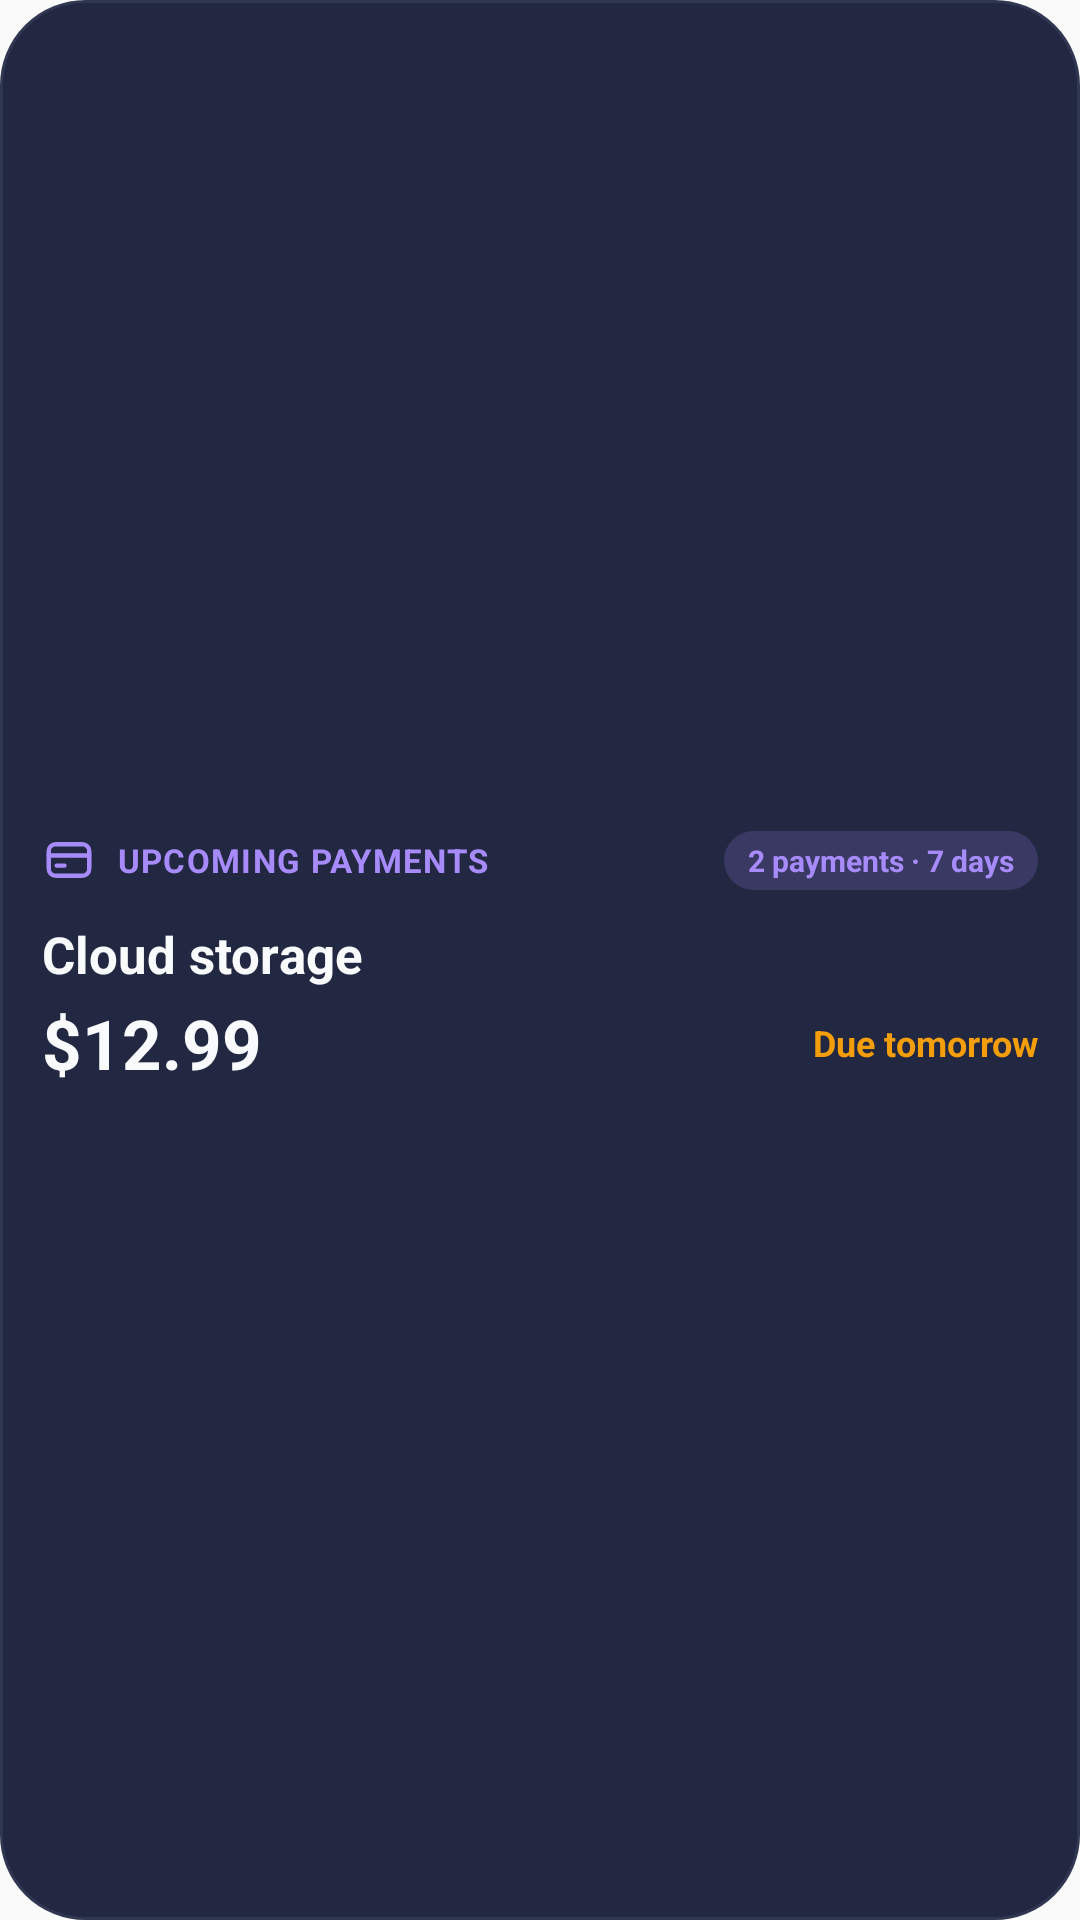

Point at icon controls on the screen. Image size 1080w x 1920h, points as point (x, y).
widget subscription: point (69, 860)
